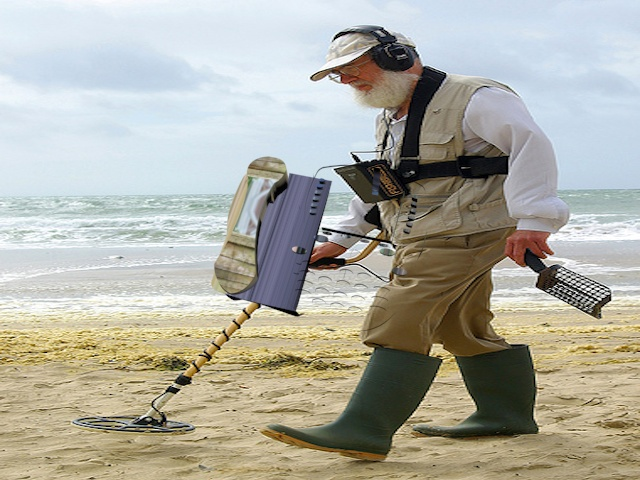phone: (208, 145, 432, 336)
